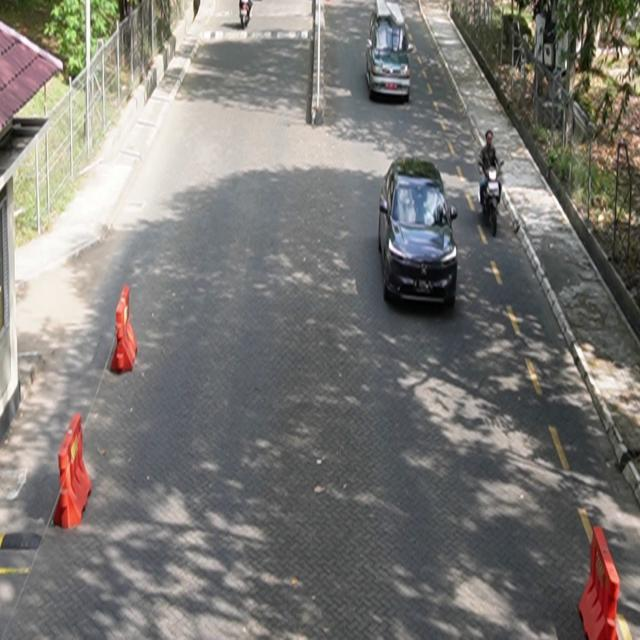car: (379, 155, 459, 310), (366, 2, 413, 103)
